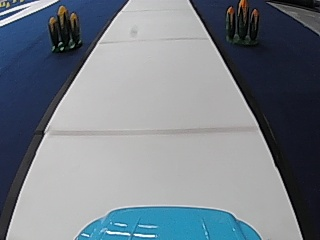corn: (220, 3, 264, 48), (45, 5, 85, 54)
